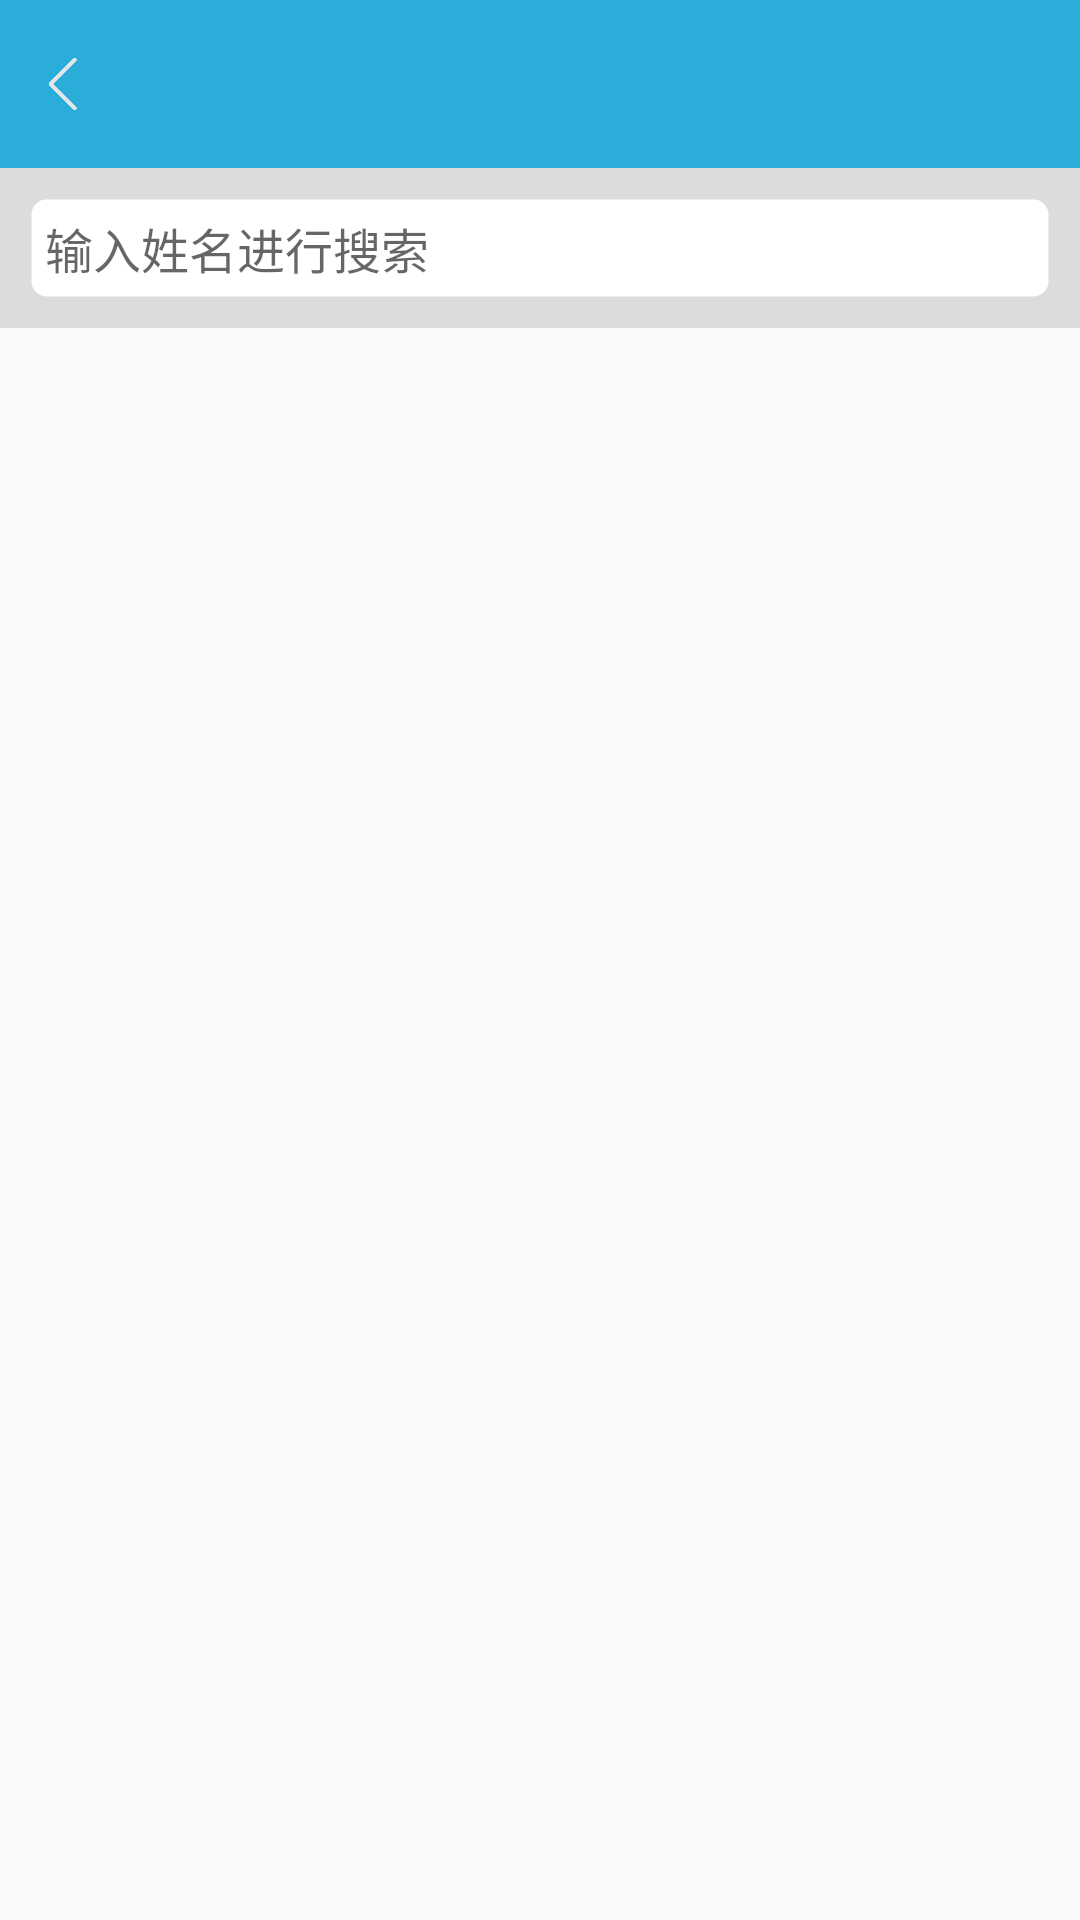

Icons on this 1080x1920 Android screen, each with the point to tap as [x,y]:
back: [63,84]
